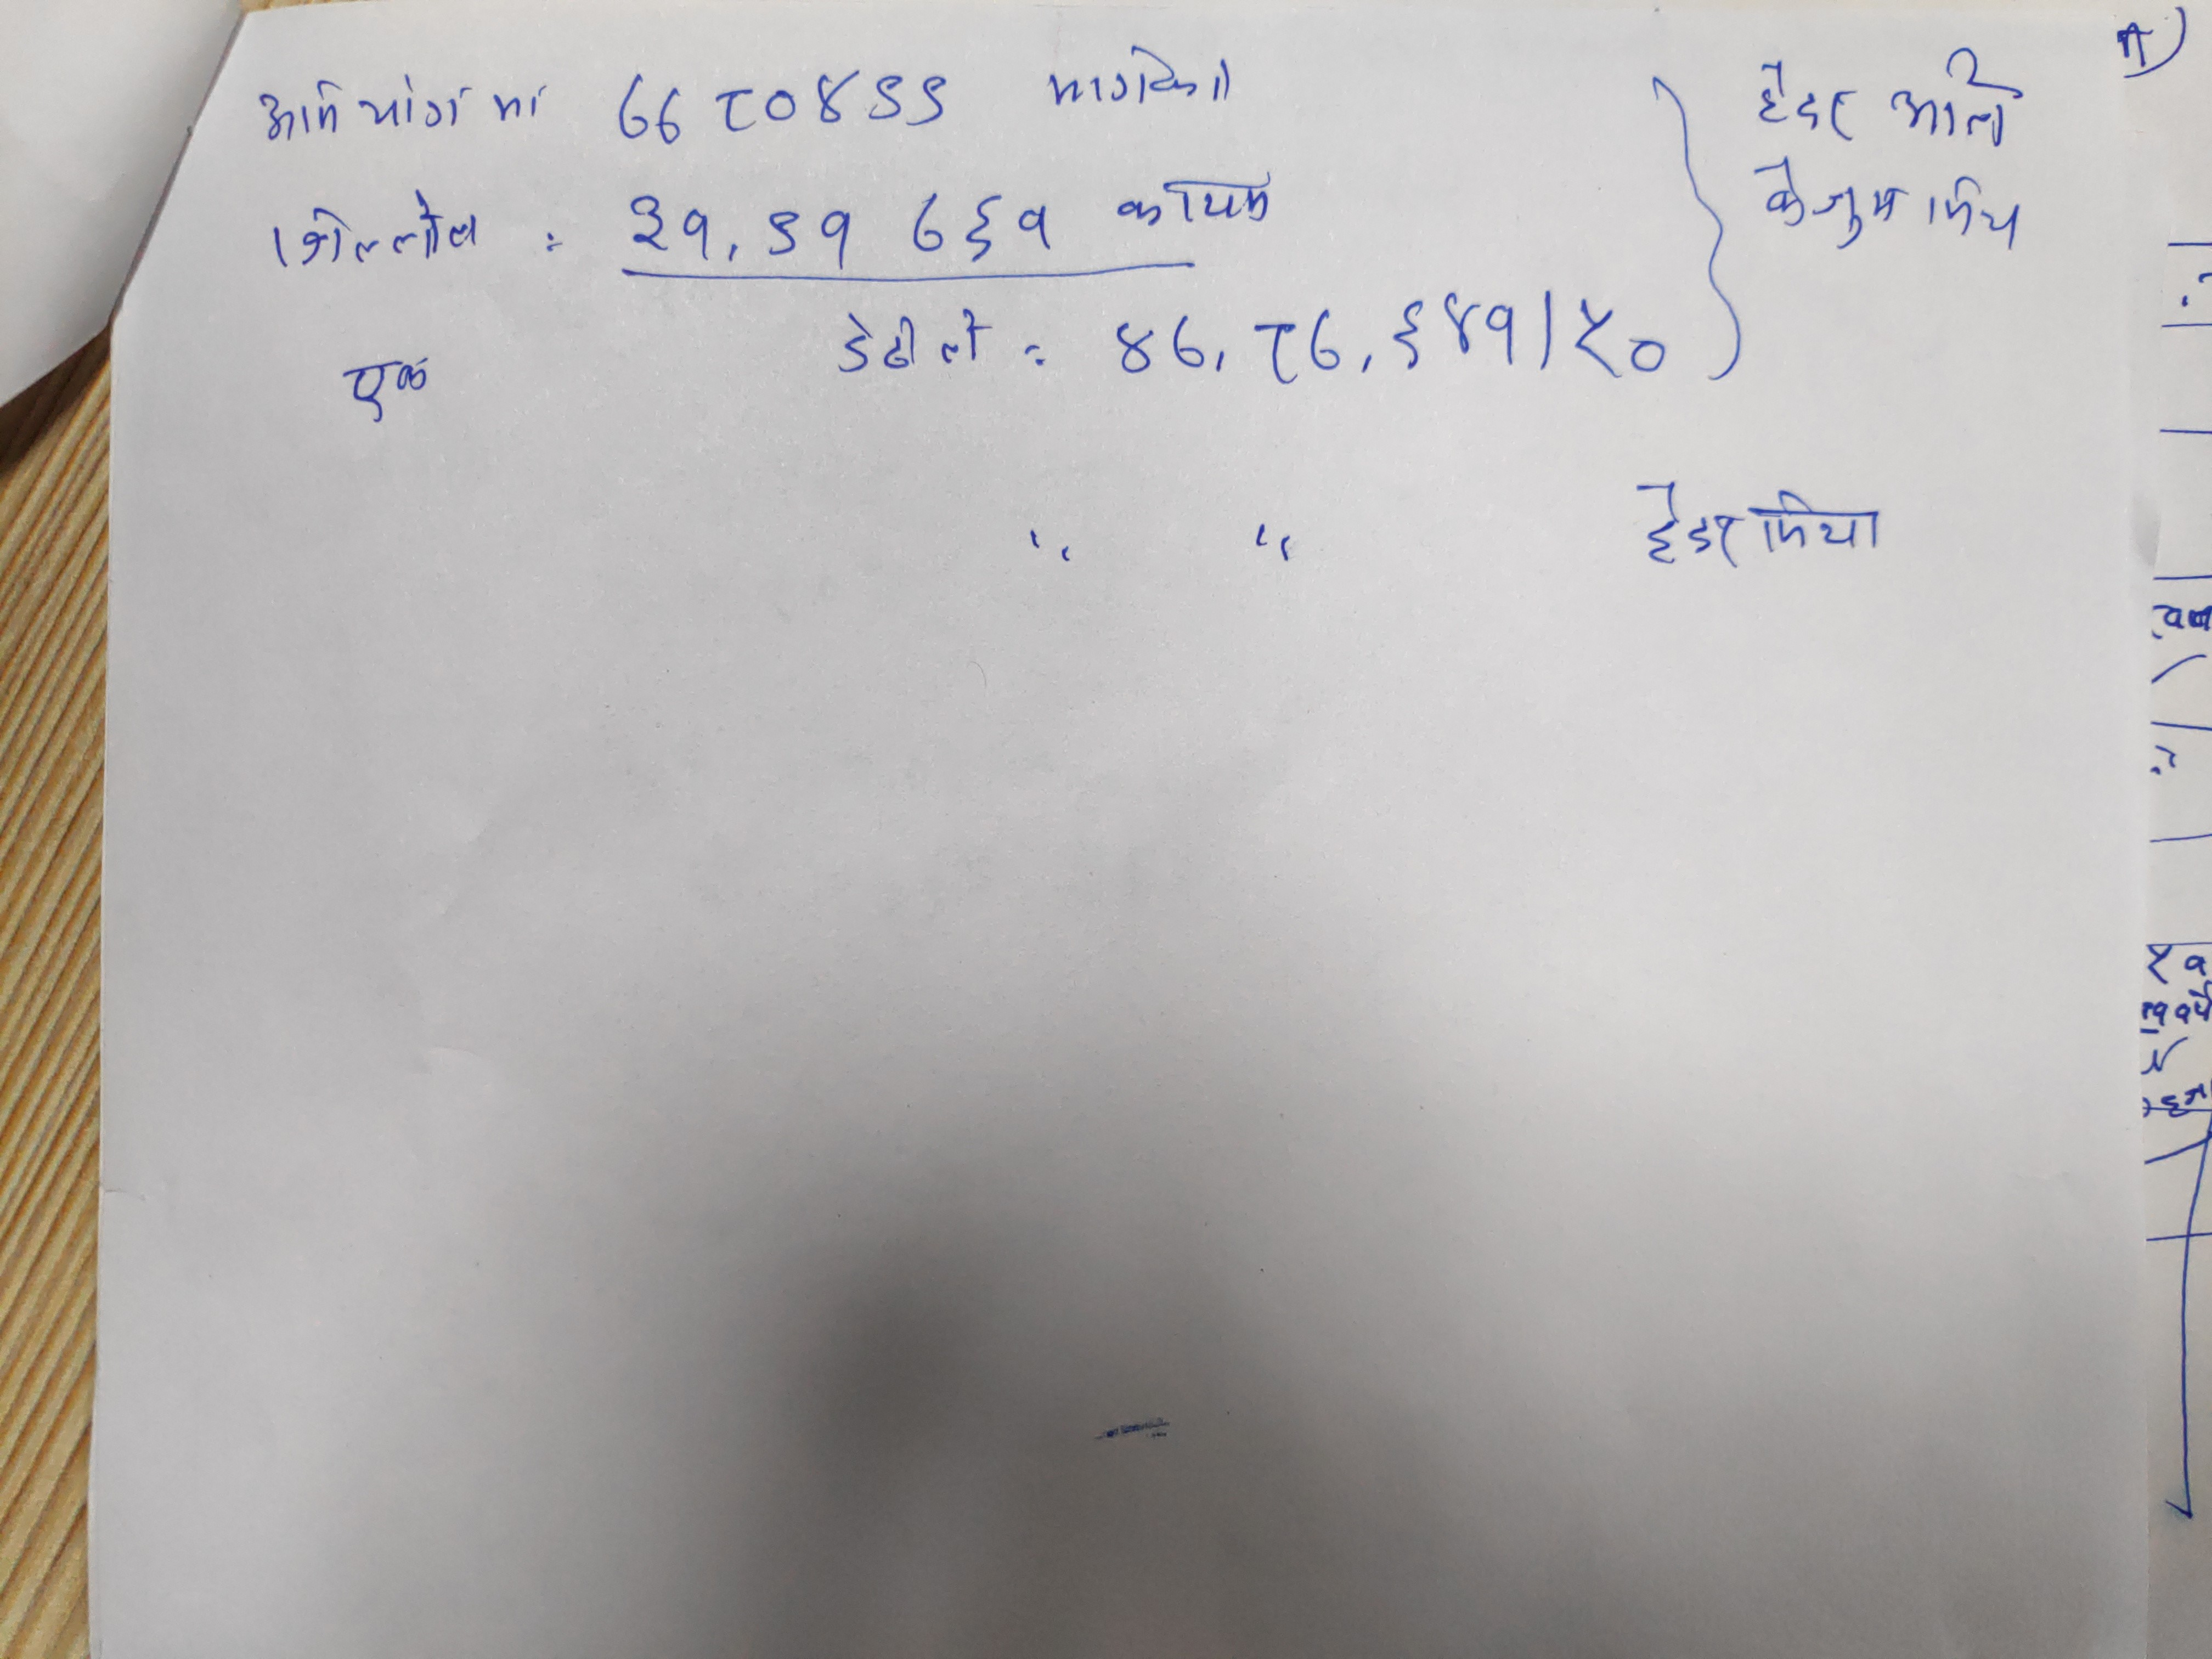text: (1108, 279, 1676, 390), (613, 169, 1055, 267), (611, 59, 961, 152), (1749, 152, 2029, 261), (1625, 471, 1888, 575), (246, 64, 556, 143), (254, 188, 488, 279), (1886, 37, 2024, 152), (1038, 40, 1242, 117), (1115, 164, 1285, 237), (836, 300, 984, 380), (1740, 56, 1857, 150), (334, 352, 444, 429)
